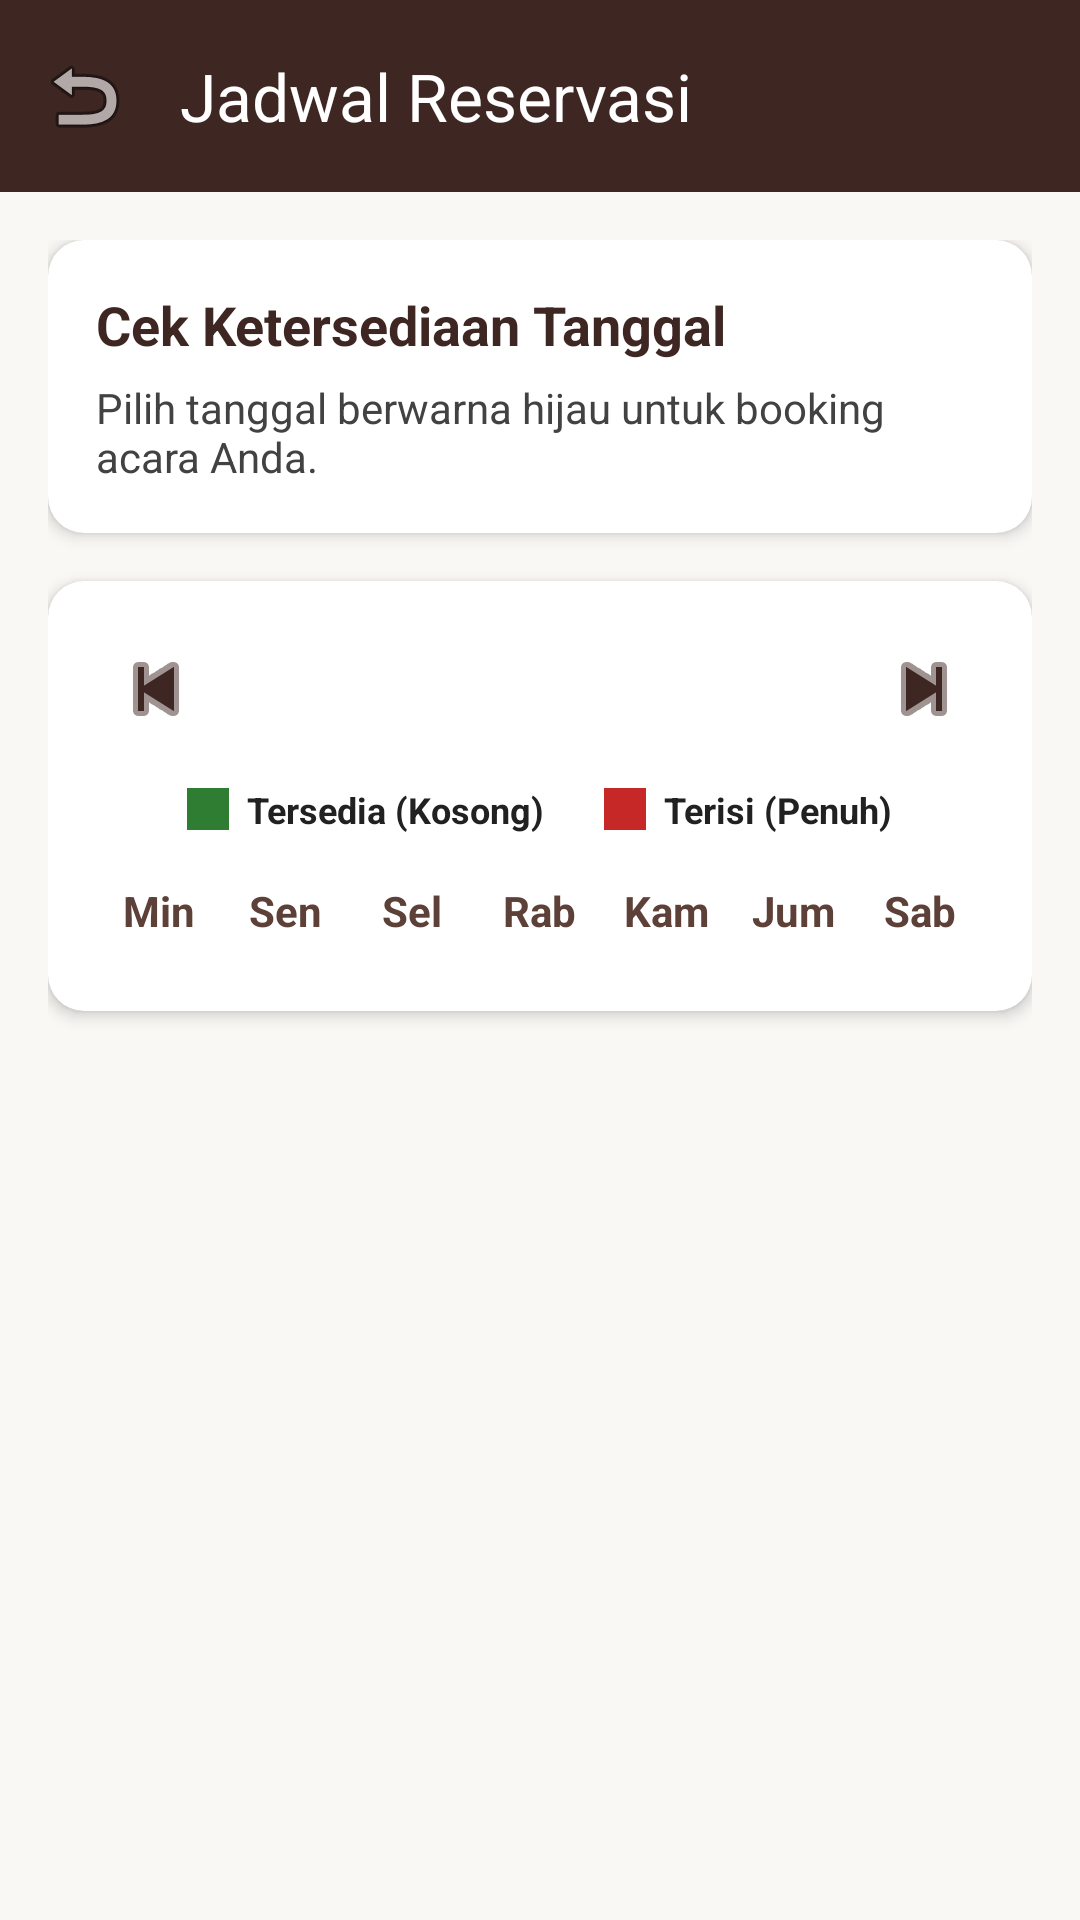

Icon bounding boxes for this 1080w x 1920h phone screenshot, format (x1, y1, x2, y2):
next: (901, 662, 947, 716)
previous: (133, 662, 179, 716)
